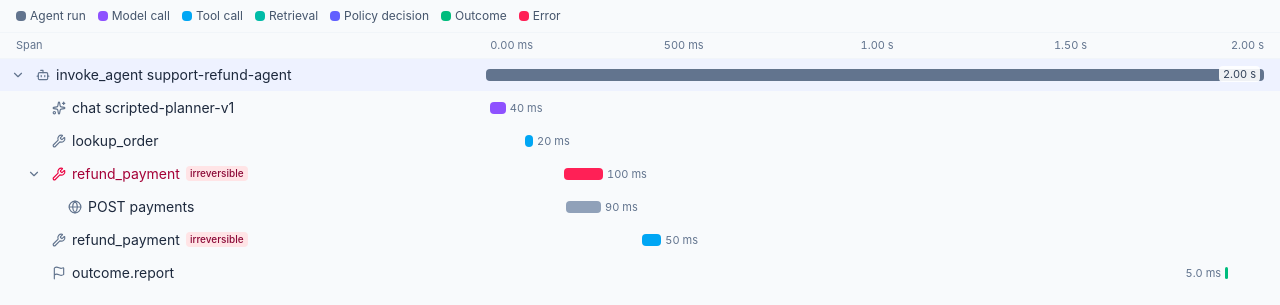
Scenario: WaterfallView › renders every span with an accessible timing label and supports collapse
Click the button named "Tool call execute_tool refund_payment, write irreversible risk, error, starts at 200 ms, lasts 100 ms" at (126, 173), box [48, 162, 478, 186]
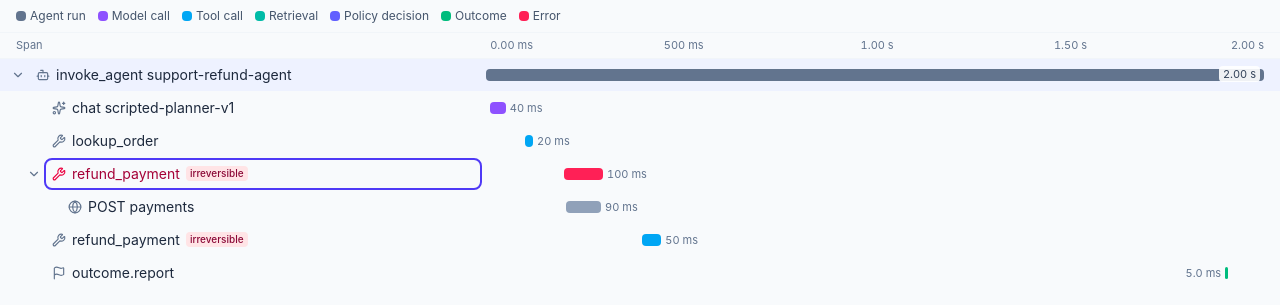
Click the button named "Collapse execute_tool refund_payment" at (34, 174), box [24, 164, 44, 184]
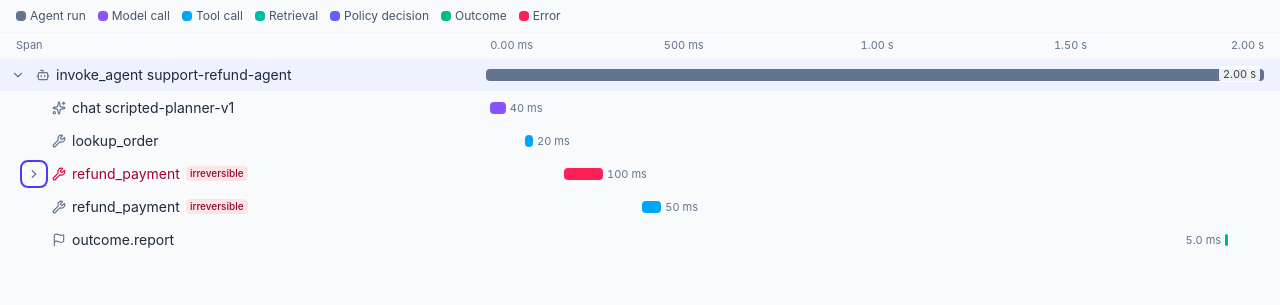
Now the number of list items with test id "waterfall-row" is 6, box [0, 58, 1279, 92]; [0, 92, 1279, 124]; [0, 124, 1279, 158]; [0, 158, 1279, 190]; [0, 190, 1279, 224]; [0, 224, 1279, 256]
Now the button named "Expand execute_tool refund_payment" is collapsed, box [24, 164, 44, 184]
